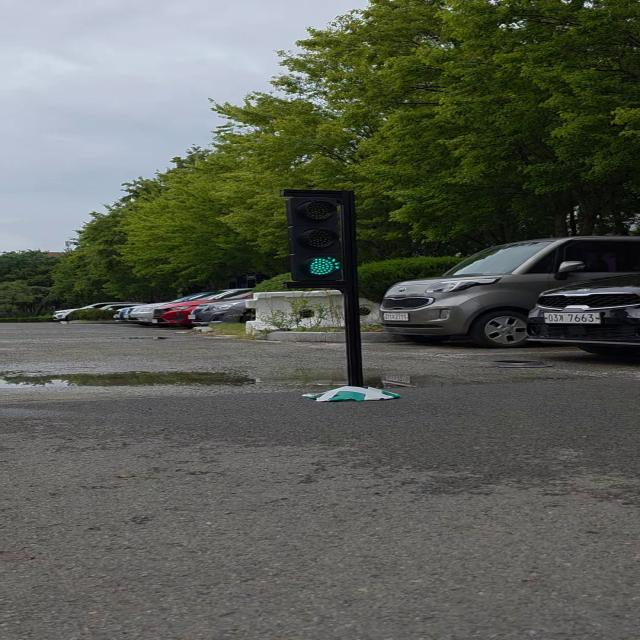green: (286, 192, 351, 286)
